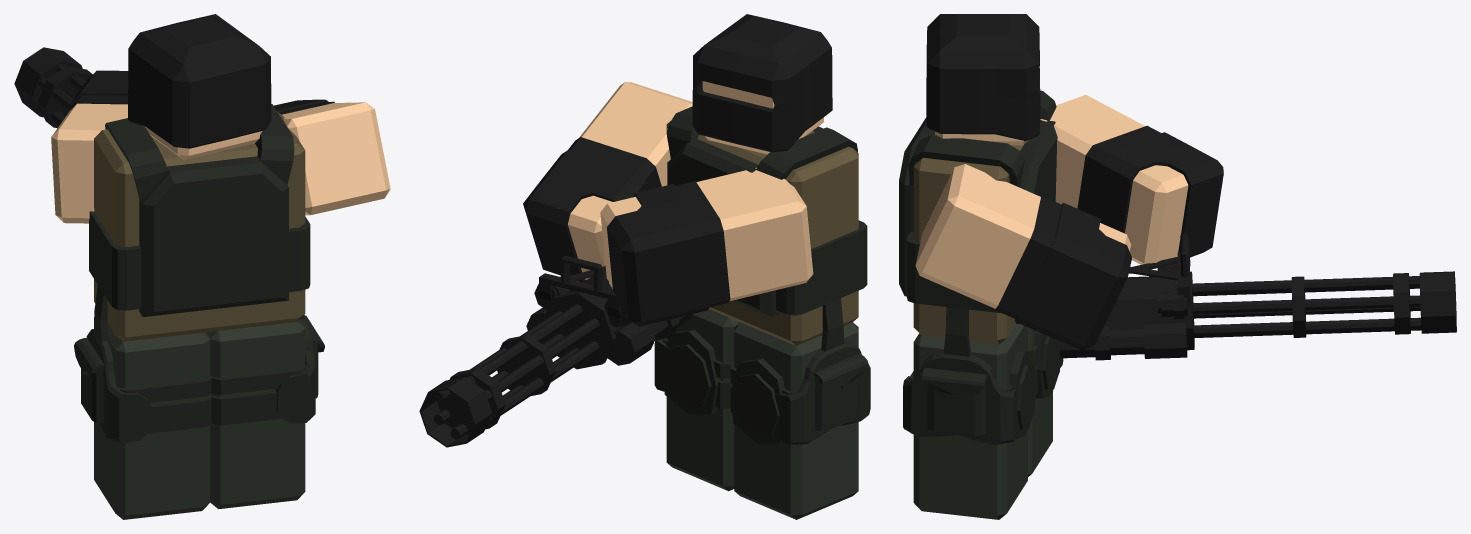
3 views of the same model, side by side, from view 1: azimuth 30°, elevation 25°; view 2: azimuth 150°, elevation 25°; view 3: azimuth 270°, elevation 25° (orthographic). The views are drawn at different scales.
Visible parts, largest first — view 1: SWAT.Torso, SWAT.Legs, SWAT.Arm_R, SWAT.Arm_L; view 2: SWAT.Torso, SWAT.Legs, SWAT.Arm_R, SWAT.Arm_L; view 3: SWAT.Arm_R, SWAT.Torso, SWAT.Legs, SWAT.Arm_L.
Part boxes in pixels (x1,y1,x2,y2): SWAT.Torso: (89, 14, 310, 341); SWAT.Legs: (74, 285, 324, 519); SWAT.Arm_R: (14, 47, 390, 215); SWAT.Arm_L: (51, 70, 128, 223); SWAT.Torso: (666, 14, 867, 345); SWAT.Legs: (654, 298, 870, 519); SWAT.Arm_R: (419, 82, 692, 447); SWAT.Arm_L: (600, 167, 813, 326); SWAT.Arm_R: (915, 164, 1456, 360); SWAT.Torso: (899, 14, 1057, 344); SWAT.Legs: (903, 307, 1063, 519); SWAT.Arm_L: (1040, 95, 1223, 264).
Size of the model in its own units: 336 by 518 by 576.
